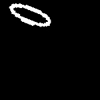chain: (9, 4, 50, 25)
